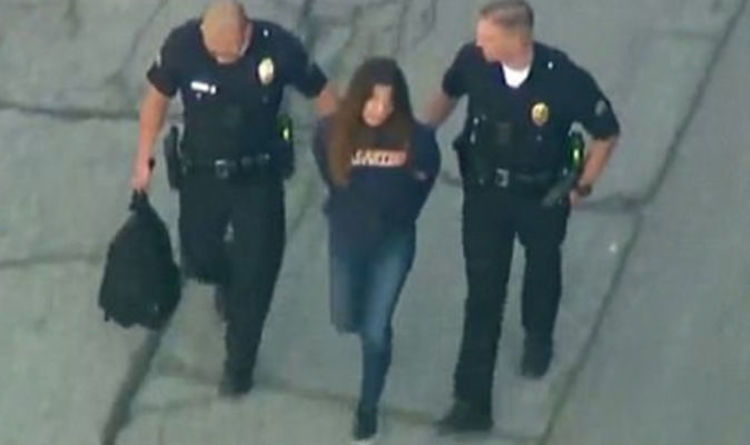Person: (416, 1, 627, 439), (123, 4, 336, 407), (312, 52, 442, 444)
